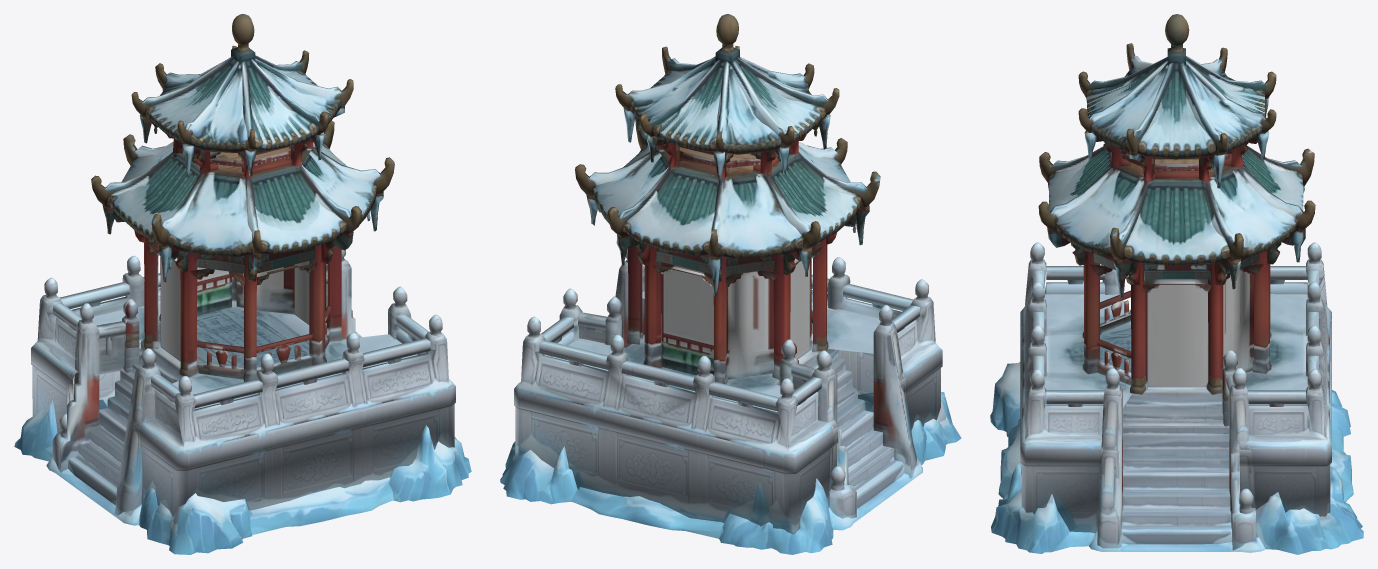
Rendered from SM_Tripo_FrostLakePavilion.glb.
The picture shows the model from 3 angles, left to right: view 1: azimuth 30°, elevation 25°; view 2: azimuth 150°, elevation 25°; view 3: azimuth 270°, elevation 25°; orthographic projection. The views are drawn at different scales.
Visible parts, largest first — view 1: SM_Tripo_FrostLakePavilion_LOD0; view 2: SM_Tripo_FrostLakePavilion_LOD0; view 3: SM_Tripo_FrostLakePavilion_LOD0.
Boxes of the visible parts, bbox=[...] form: SM_Tripo_FrostLakePavilion_LOD0: bbox=[14, 14, 471, 554]; SM_Tripo_FrostLakePavilion_LOD0: bbox=[500, 14, 961, 554]; SM_Tripo_FrostLakePavilion_LOD0: bbox=[990, 14, 1363, 554].
Bounding box in the file's own units: 8.42 × 11 × 8.12.
1 material, 1 textured.
